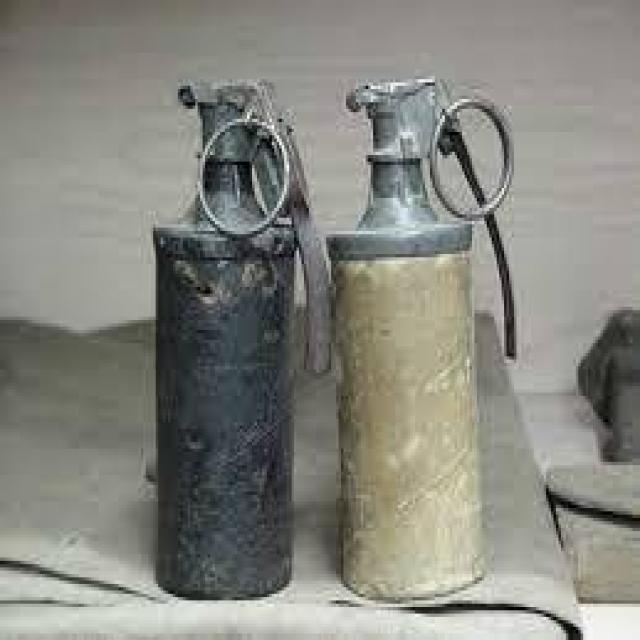grenade: (334, 57, 522, 598), (141, 71, 326, 602)
